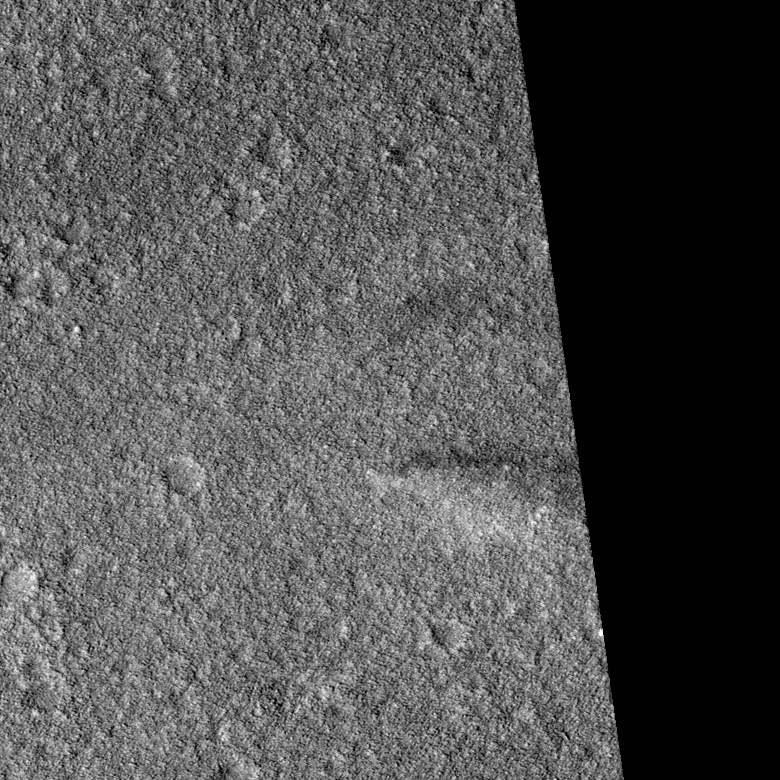dust_devil: (362, 443, 580, 550)
